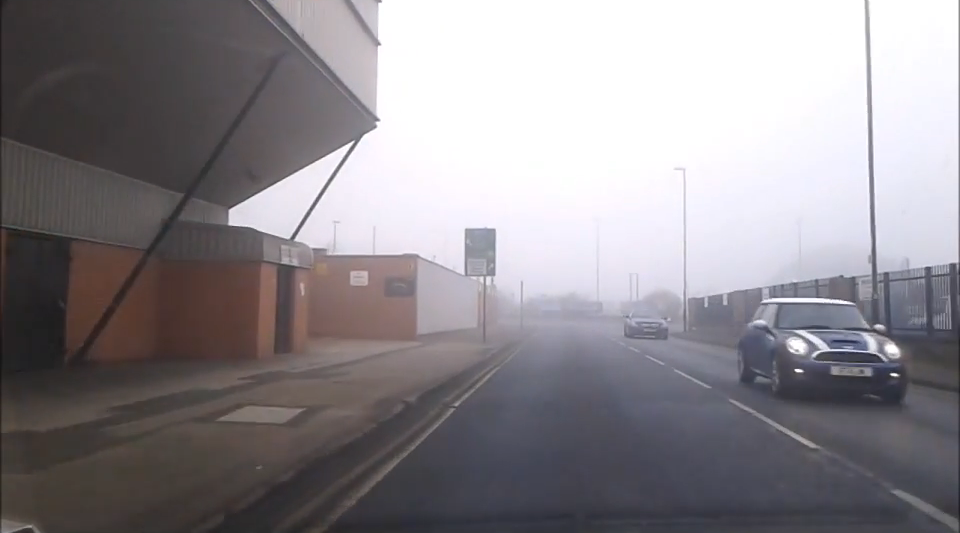car: (736, 297, 909, 407), (621, 306, 670, 339)
